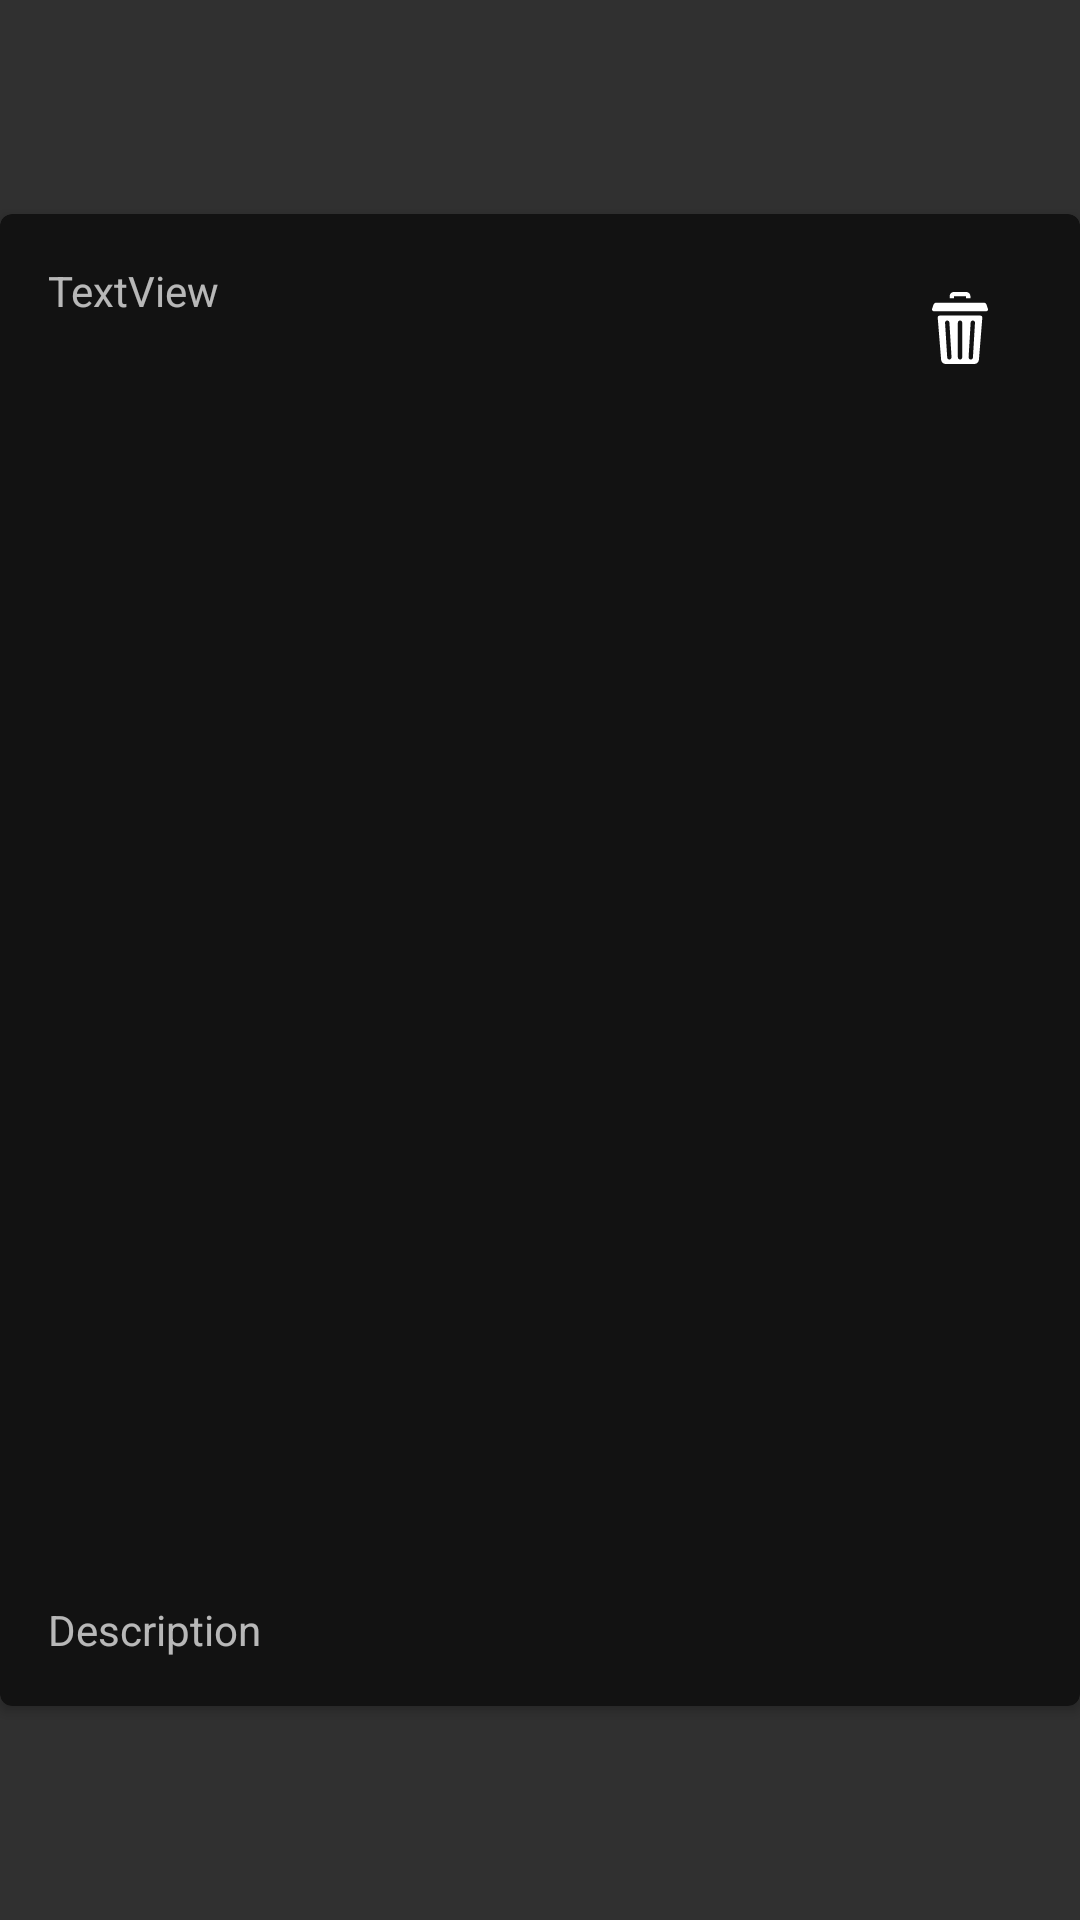

Locate icon controls on the screen. Image size 1080px x 1920px, boxes as bbox=[x1, y1, x2, y2].
delete: bbox=[932, 292, 988, 364]
